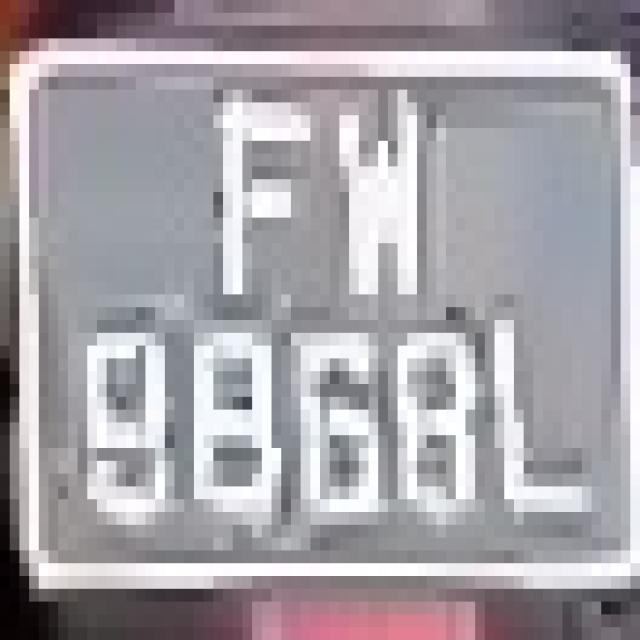6: (262, 268, 388, 538)
8: (165, 282, 291, 550), (378, 282, 495, 550)
9: (58, 269, 175, 576)
F: (204, 52, 320, 294)
L: (485, 320, 611, 589)
W: (300, 77, 436, 307)
